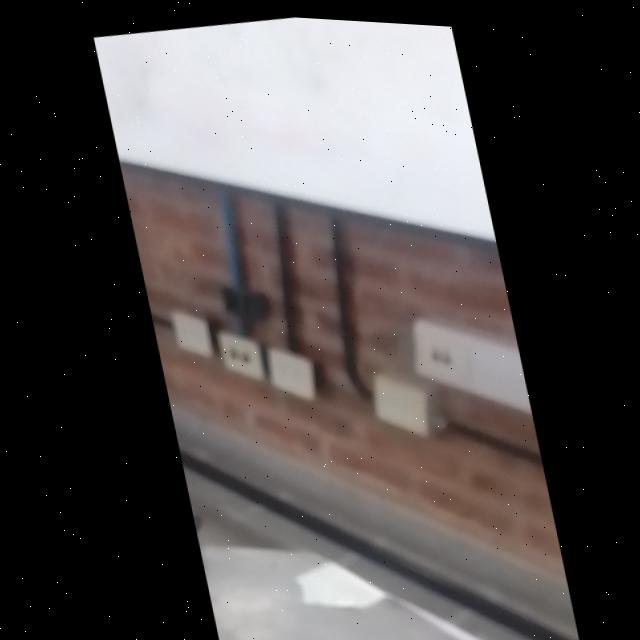redBox: (212, 627, 296, 640)
